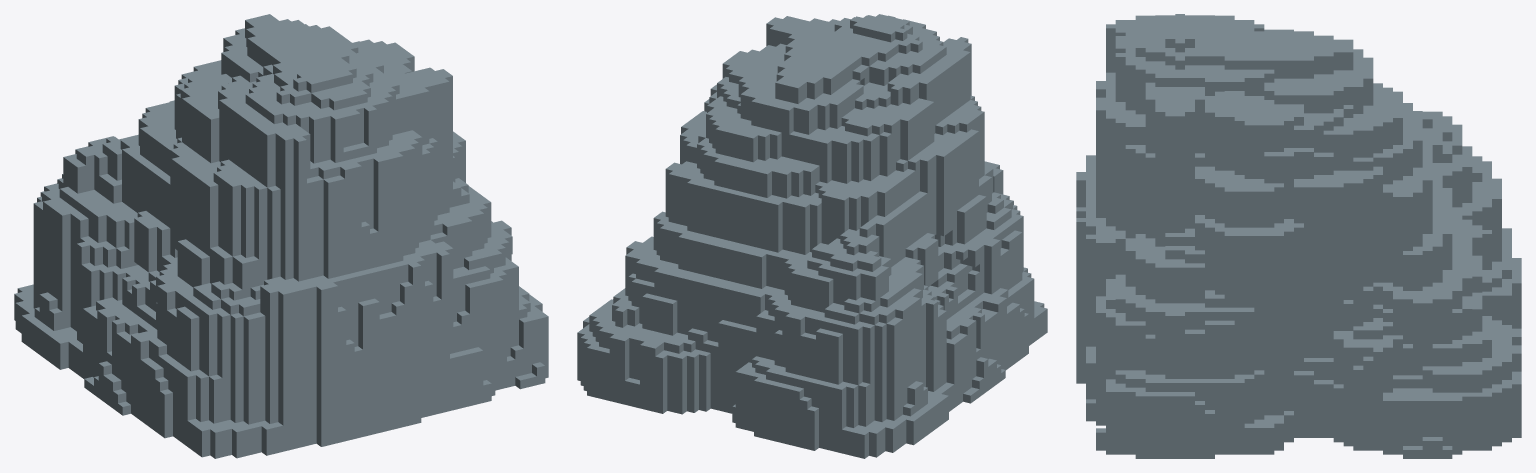
The model's file is rock-2x2x2.glb.
3 renders of one model, left to right at view 1: azimuth 30°, elevation 25°; view 2: azimuth 150°, elevation 25°; view 3: azimuth 270°, elevation 25°, orthographic. The views are drawn at different scales.
Parts seen in each view (by area): view 1: v3.3; view 2: v3.3; view 3: v3.3.
Boxes of the visible parts, x1,y1,x2,y2 form: v3.3: [14, 14, 548, 458]; v3.3: [577, 14, 1047, 458]; v3.3: [1076, 14, 1521, 458].
Size of the model in its own units: 44 by 37 by 45.
